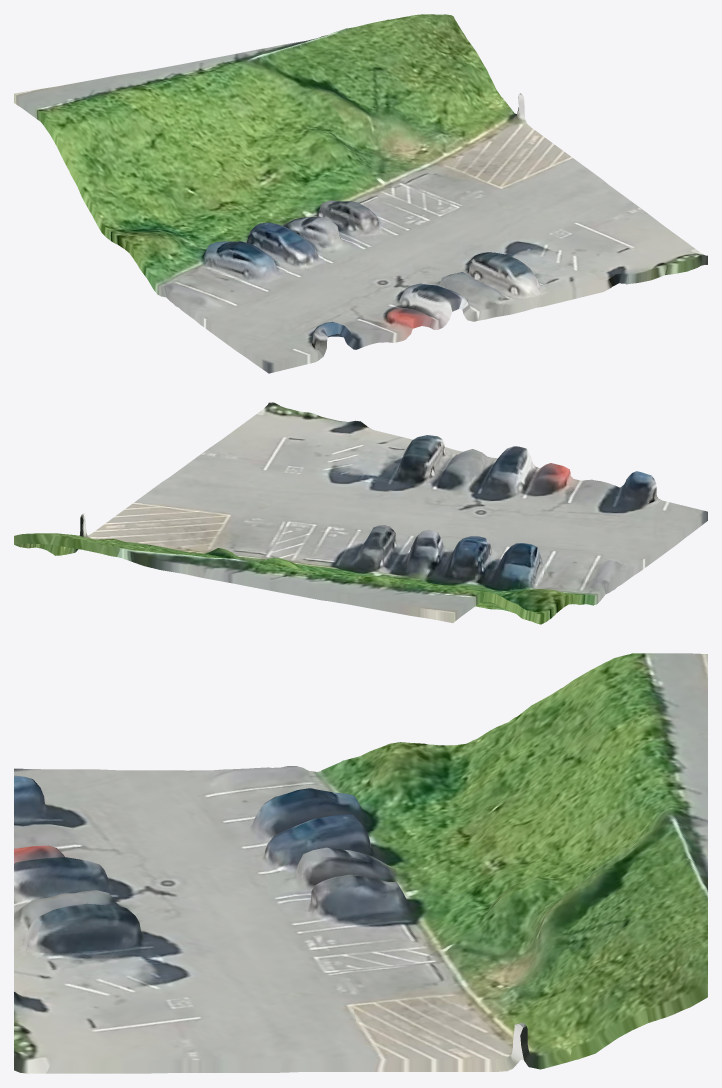
File: z20-167565-405174-h0-yup-uvflip-v3-world.glb
The picture shows the model from 3 angles, top to bottom: view 1: azimuth 30°, elevation 25°; view 2: azimuth 150°, elevation 25°; view 3: azimuth 270°, elevation 25°; orthographic projection. The views are drawn at different scales.
Size of the model in its own units: 30.16 by 6.32 by 30.32.
Materials: 1 (1 with a texture image).
